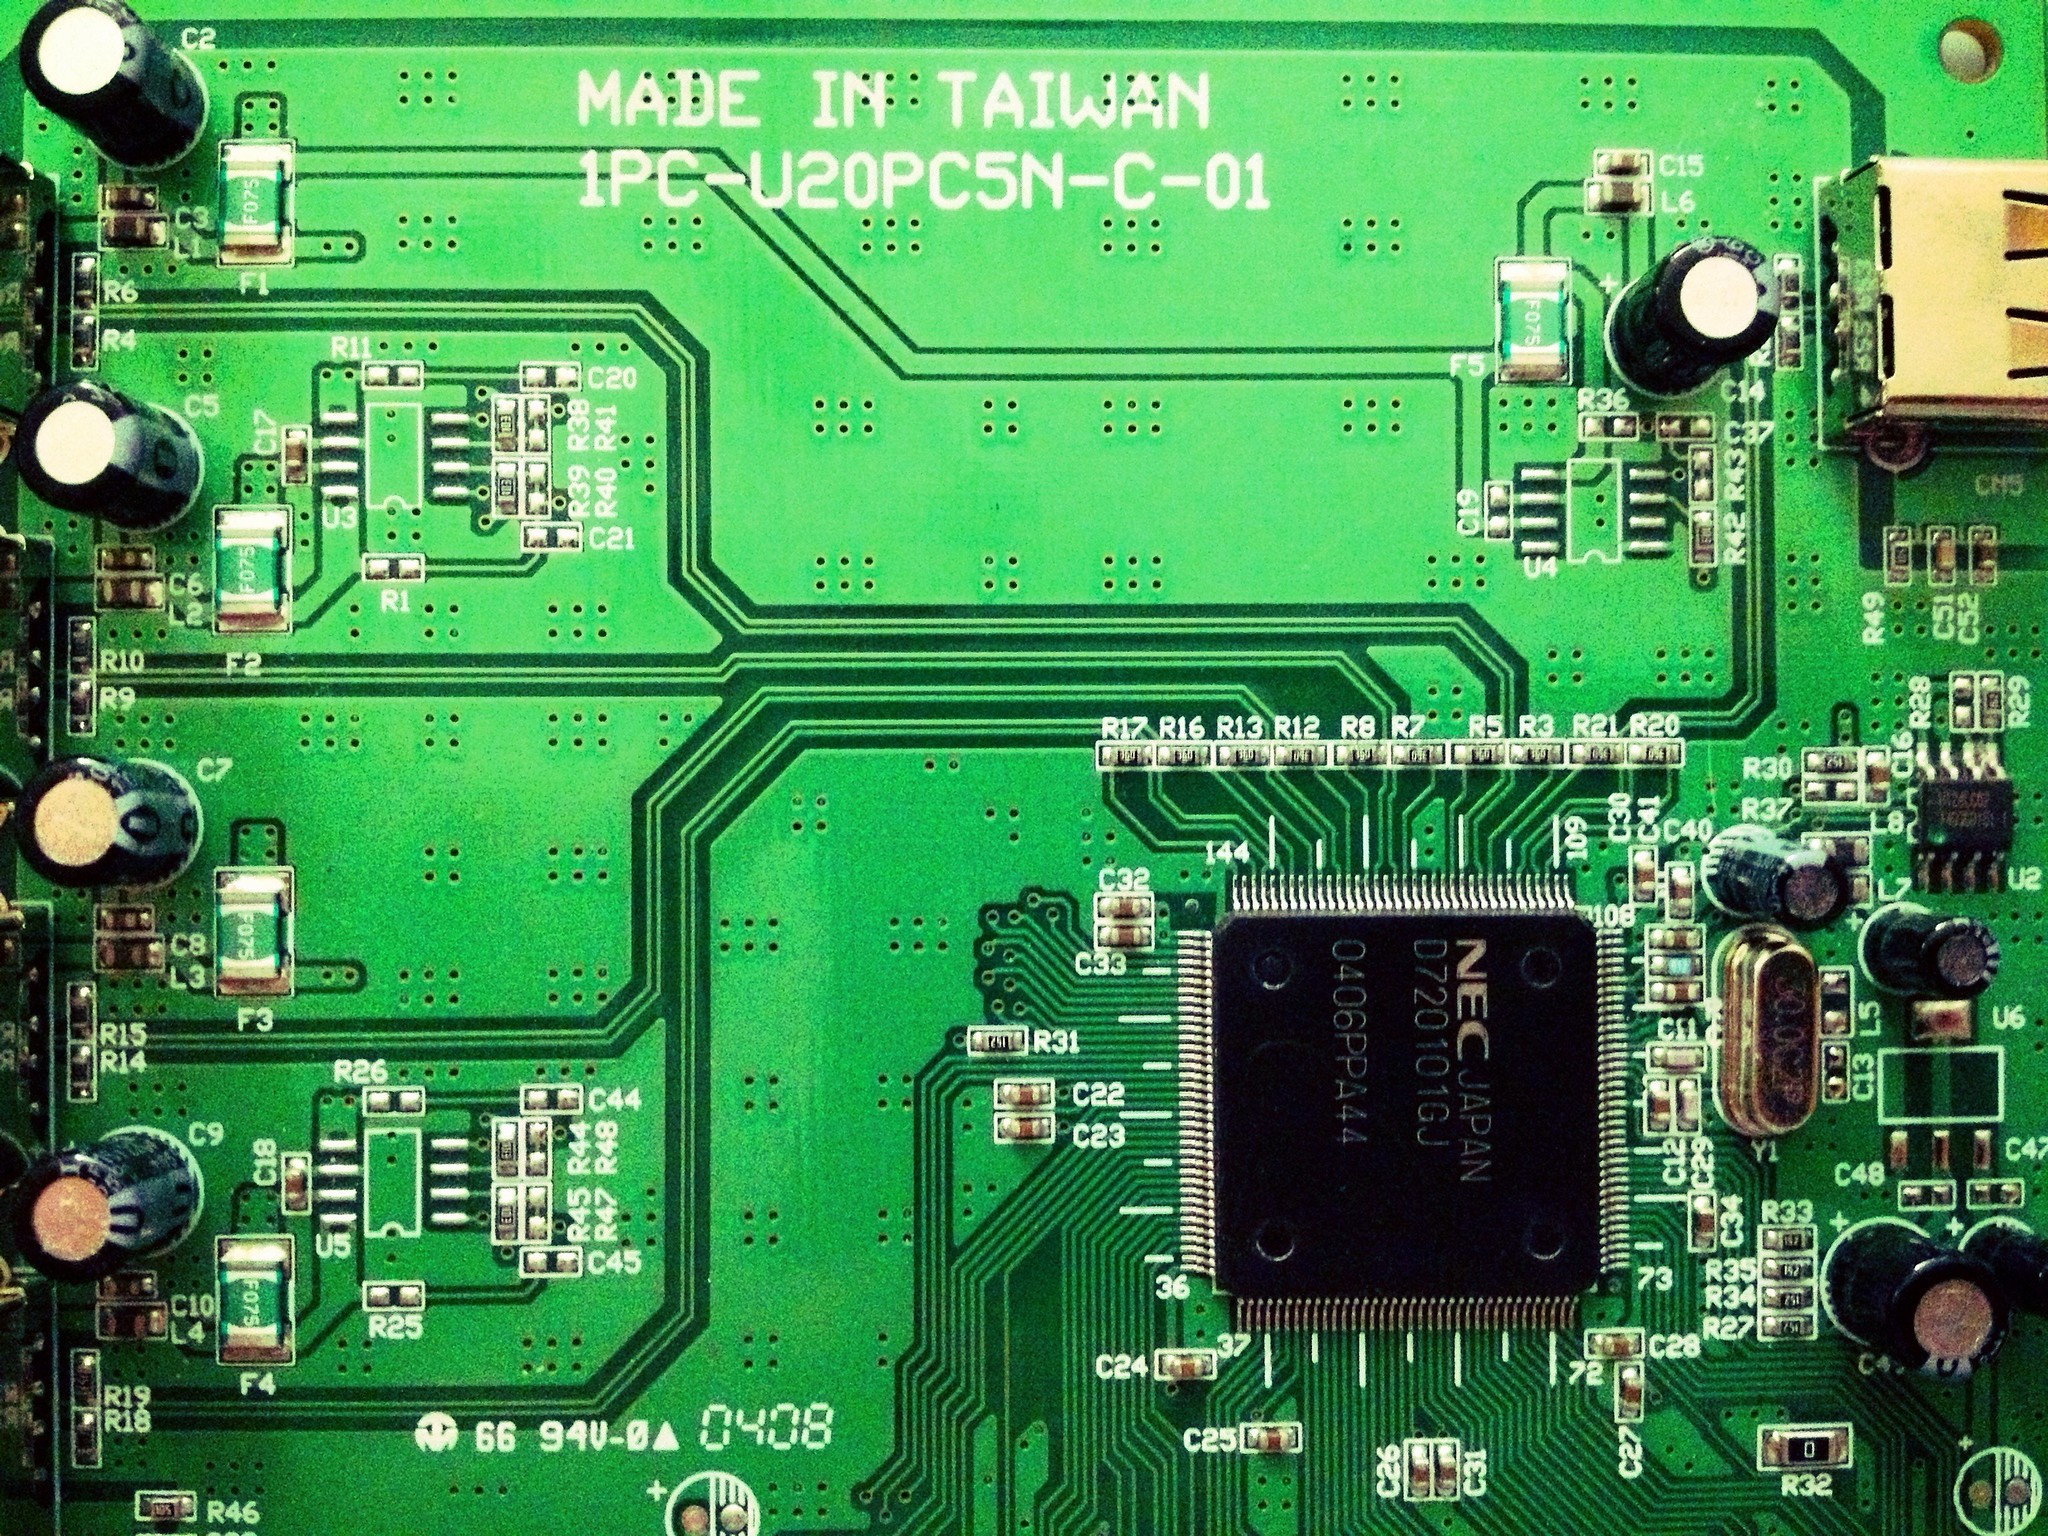Capacitor: (15, 2, 219, 171), (1824, 1221, 2017, 1391), (8, 1125, 206, 1288), (8, 376, 206, 537), (1606, 234, 1795, 397), (13, 750, 203, 892), (1861, 899, 2003, 1000), (1711, 836, 1854, 933)
